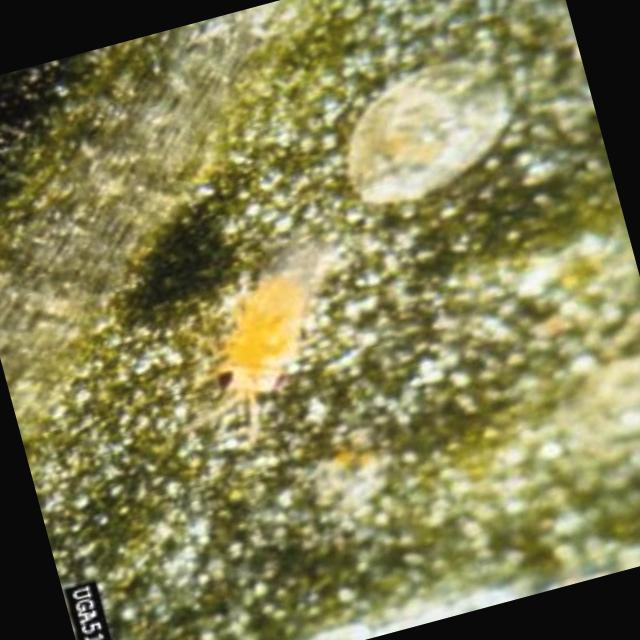Silverleaf whitefly: (116, 234, 387, 478), (308, 17, 560, 250)
